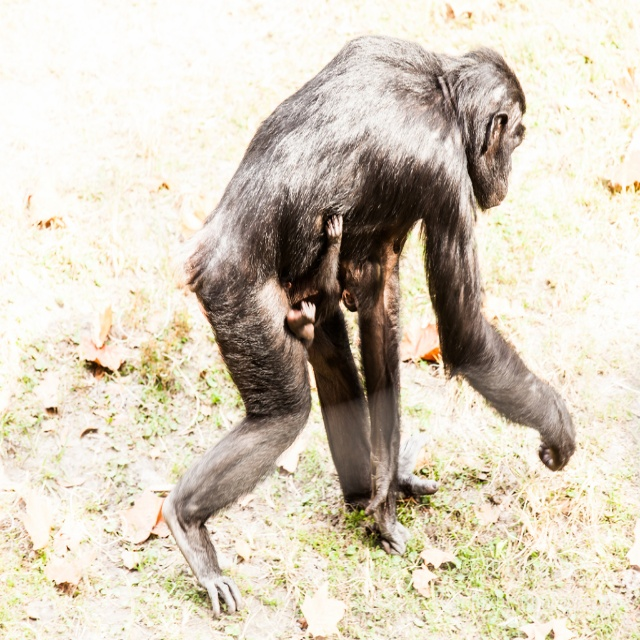Monkey: (189, 5, 563, 594)
